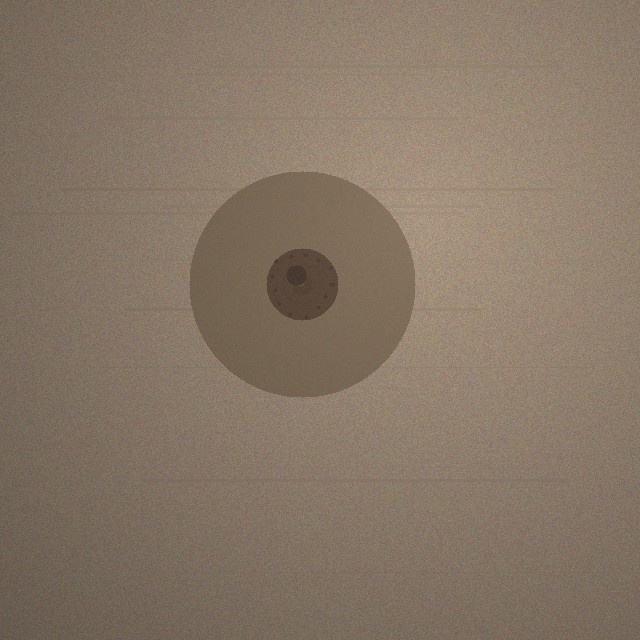cold_weld: (189, 171, 415, 397)
